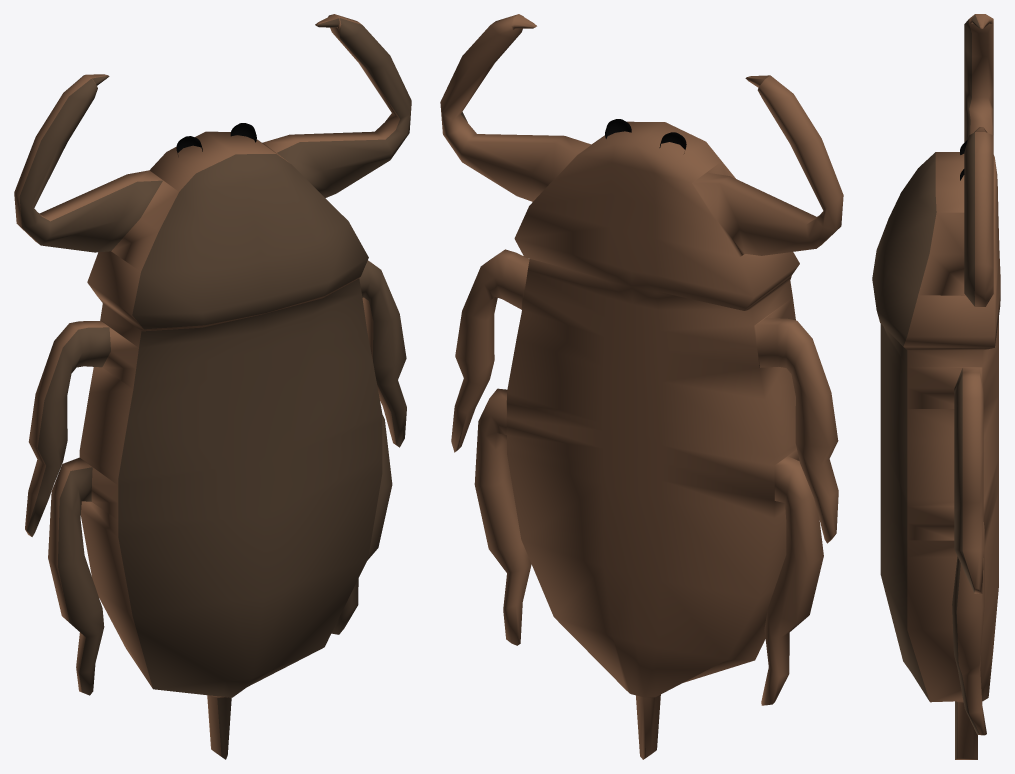
Rendered from water bug.fbx.
3 renders of one model, left to right at view 1: azimuth 30°, elevation 25°; view 2: azimuth 150°, elevation 25°; view 3: azimuth 270°, elevation 25°, orthographic. The views are drawn at different scales.
Parts seen in each view (by area): view 1: Cube; view 2: Cube; view 3: Cube.
Part boxes in pixels (box(x1,y1,x2,y2)): Cube: box(14, 14, 411, 759); Cube: box(440, 14, 843, 759); Cube: box(872, 14, 1000, 759).
Bounding box in the file's own units: 204 × 350 × 59.31.
